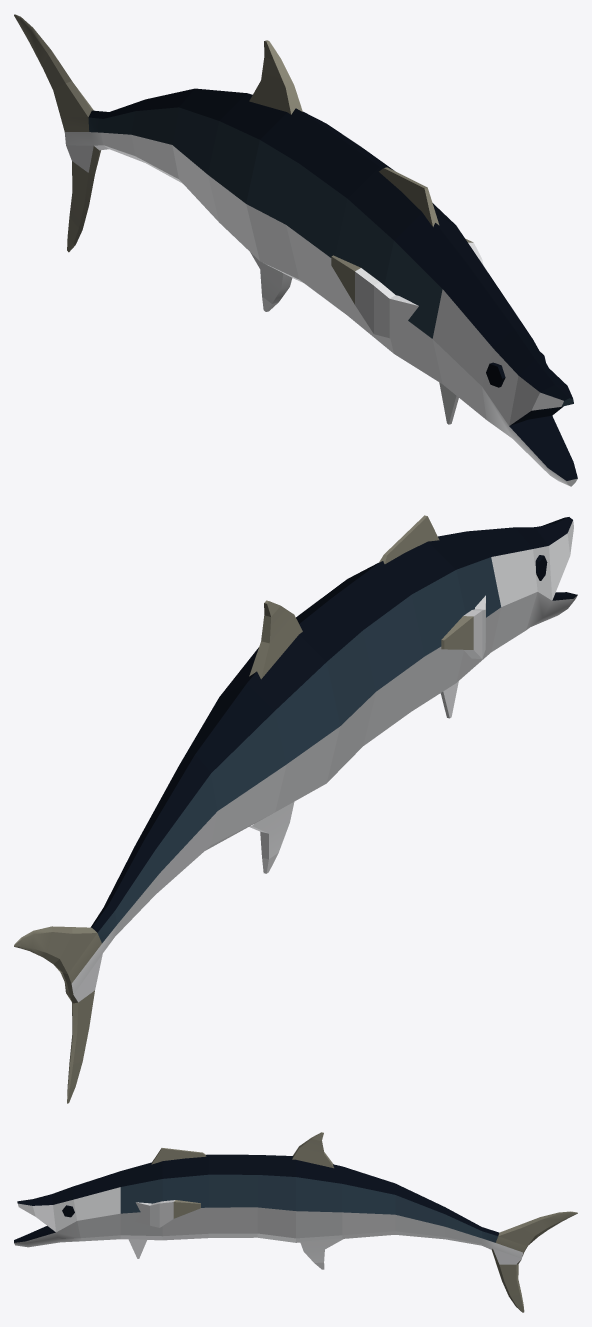
File: 242614ac-6eac-49a5-b36a-0fb11456e484.glb
3 views of the same model, one above another, from view 1: azimuth 30°, elevation 25°; view 2: azimuth 150°, elevation 25°; view 3: azimuth 270°, elevation 25° (orthographic). The views are drawn at different scales.
Visible parts, largest first — view 1: Geo_Kingfish; view 2: Geo_Kingfish; view 3: Geo_Kingfish.
Part boxes in pixels (left/top/right/bottom): Geo_Kingfish: left=14, top=14, right=577, bottom=486; Geo_Kingfish: left=14, top=515, right=577, bottom=1103; Geo_Kingfish: left=14, top=1132, right=577, bottom=1312.
Bounding box in the file's own units: 17.26 × 49.51 × 140.
Materials: 1 (1 with a texture image).
